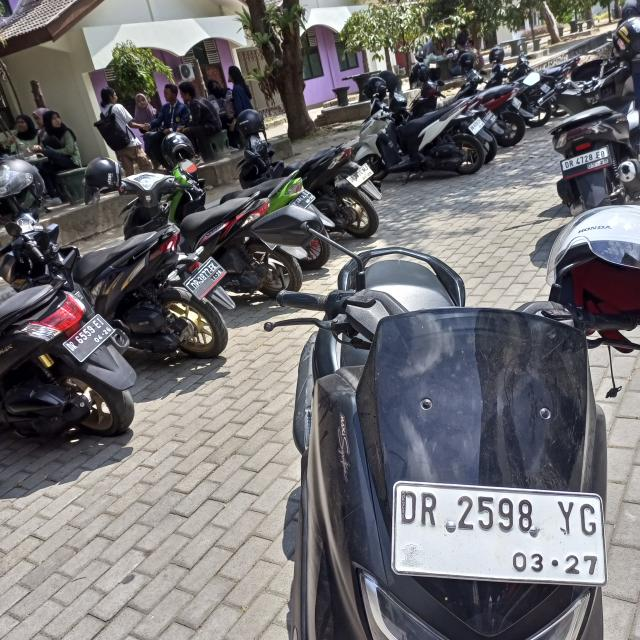plate: (391, 481, 602, 587), (62, 312, 115, 362), (184, 256, 228, 302), (559, 145, 613, 182)
